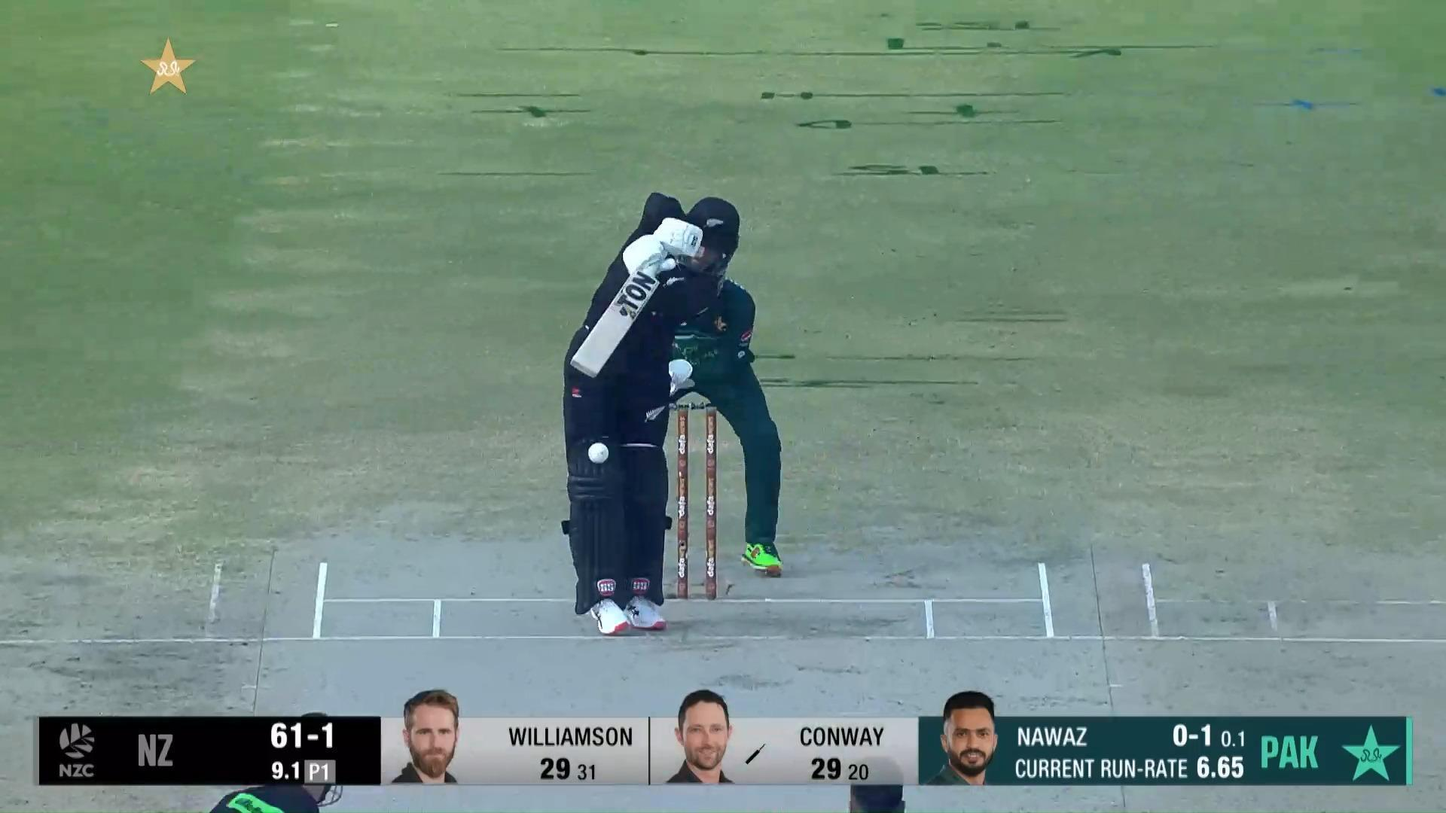BM 1: (563, 192, 742, 636)
BO: (842, 752, 911, 813)
